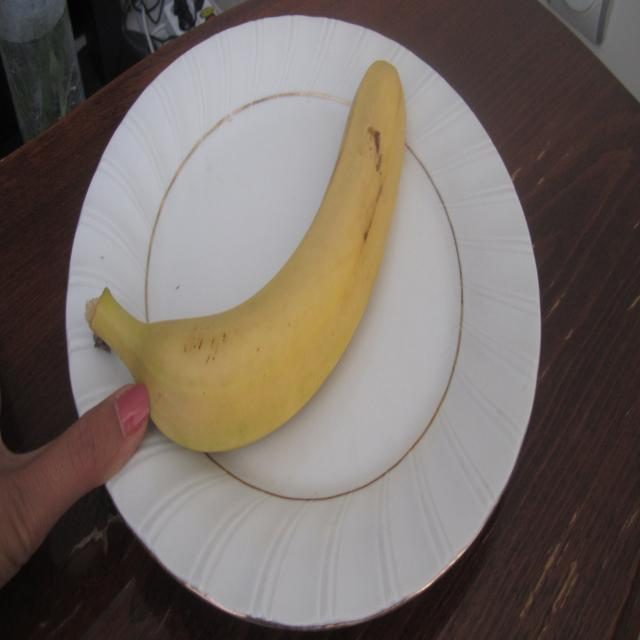banana: (80, 49, 443, 473)
